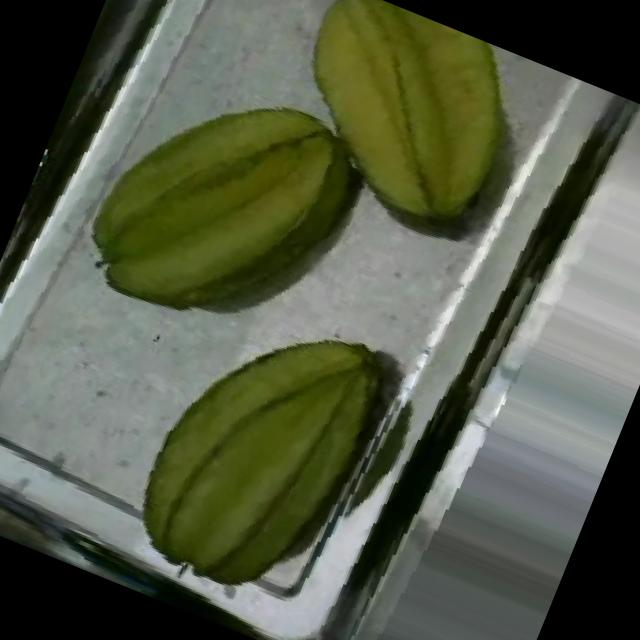fruit: (100, 266, 417, 634), (50, 28, 380, 372), (235, 0, 554, 268)
